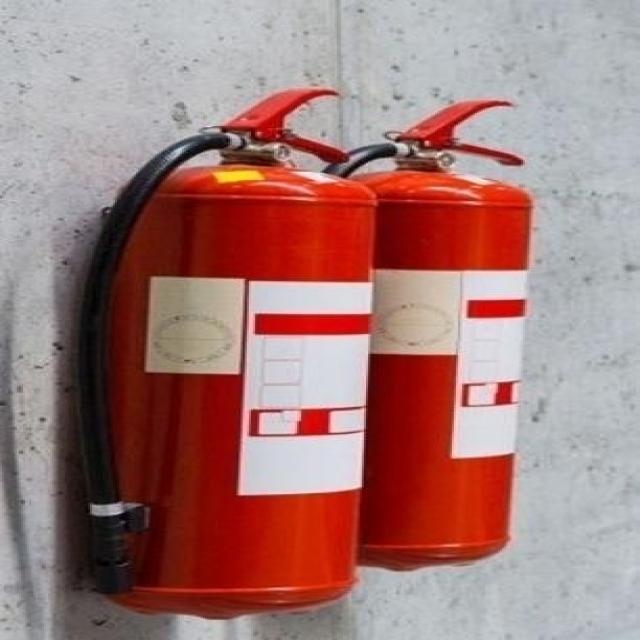fire_extinguisher: (66, 82, 386, 617), (286, 93, 536, 576)
